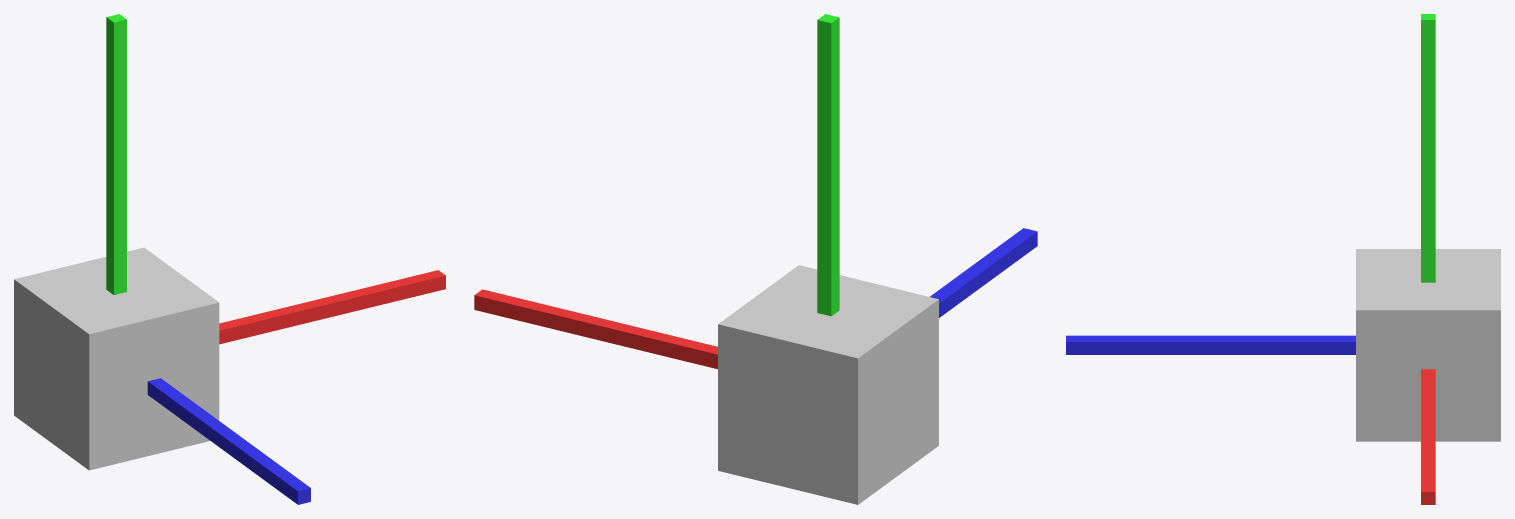
The model's file is cube-righthand.obj.
3 views of the same model, side by side, from view 1: azimuth 30°, elevation 25°; view 2: azimuth 150°, elevation 25°; view 3: azimuth 270°, elevation 25° (orthographic). The views are drawn at different scales.
Visible parts, largest first — view 1: Cube; view 2: Cube; view 3: Cube.
Part boxes in pixels (x1,y1,x2,y2): Cube: (14, 14, 445, 504); Cube: (474, 14, 1037, 504); Cube: (1066, 14, 1500, 504).
Size of the model in its own units: 3 by 3 by 3.
